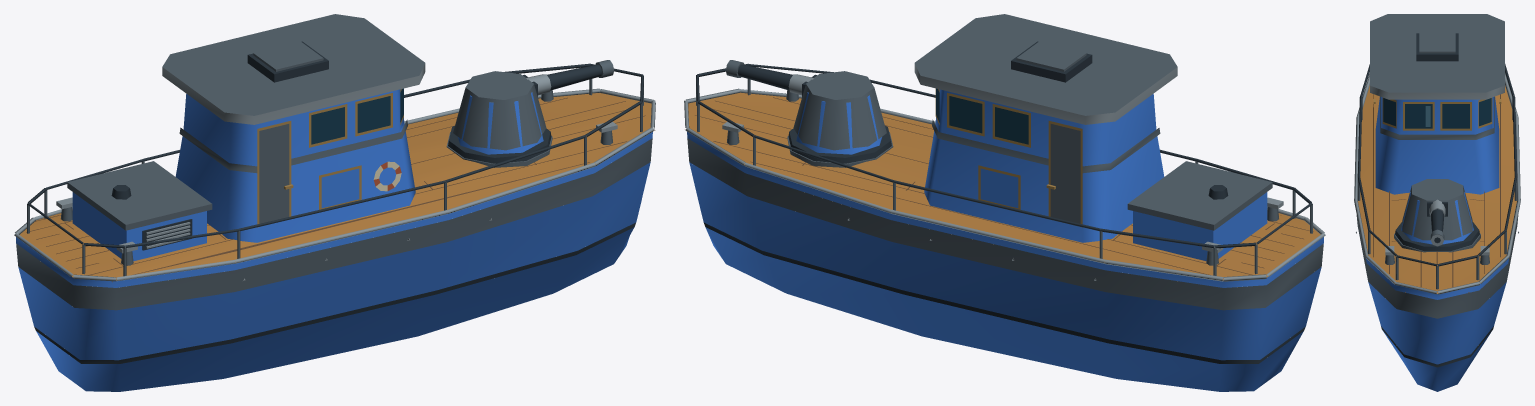
3 views of the same model, side by side, from view 1: azimuth 30°, elevation 25°; view 2: azimuth 150°, elevation 25°; view 3: azimuth 270°, elevation 25° (orthographic). The views are drawn at different scales.
Parts seen in each view (by area): view 1: 海军小艇; view 2: 海军小艇; view 3: 海军小艇.
Part boxes in pixels (left/top/right/bottom): 海军小艇: left=14, top=14, right=655, bottom=391; 海军小艇: left=684, top=14, right=1325, bottom=391; 海军小艇: left=1354, top=14, right=1520, bottom=391.
Size of the model in its own units: 0.9985 by 0.45 by 0.2948.
